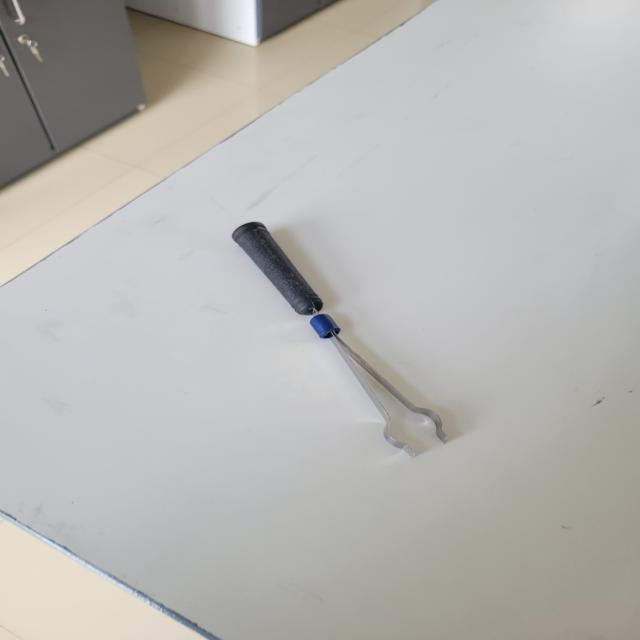TestTube_Holder: (210, 205, 472, 478)
